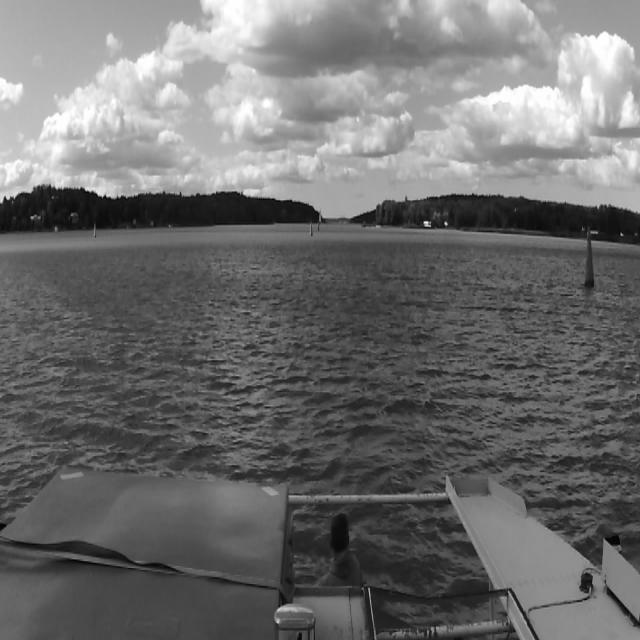buoy: (584, 226, 595, 284), (307, 219, 313, 239)
ship: (319, 206, 323, 224)
